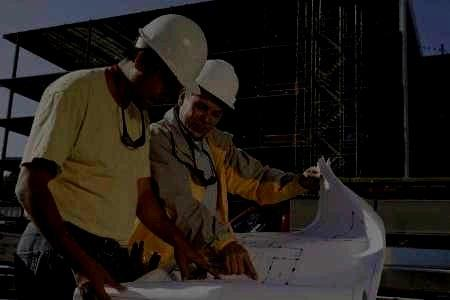helmet: (125, 12, 208, 120), (178, 58, 239, 137)
